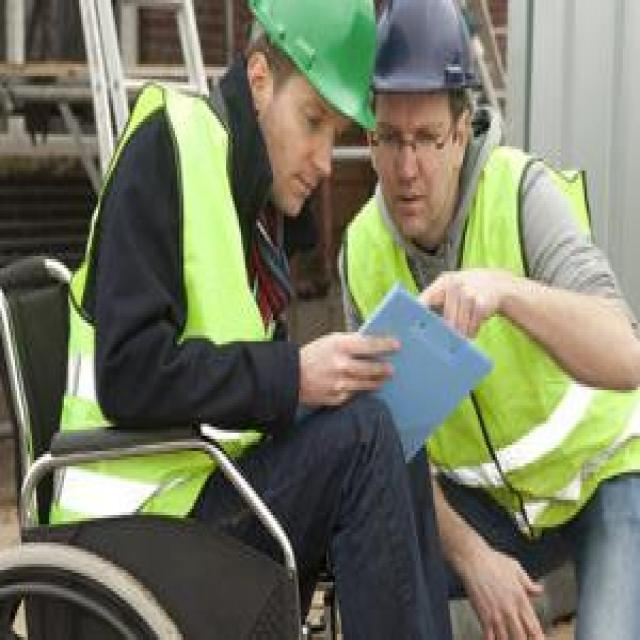Reflective-Jacket: (19, 70, 329, 533), (339, 155, 634, 530)
Safety-Helmet: (232, 0, 392, 137), (367, 0, 486, 110)
